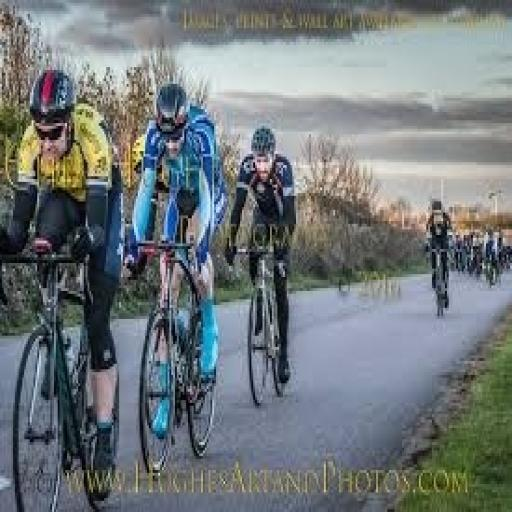cycling: (2, 64, 128, 504), (123, 78, 231, 442), (223, 123, 300, 392), (423, 196, 458, 319)
